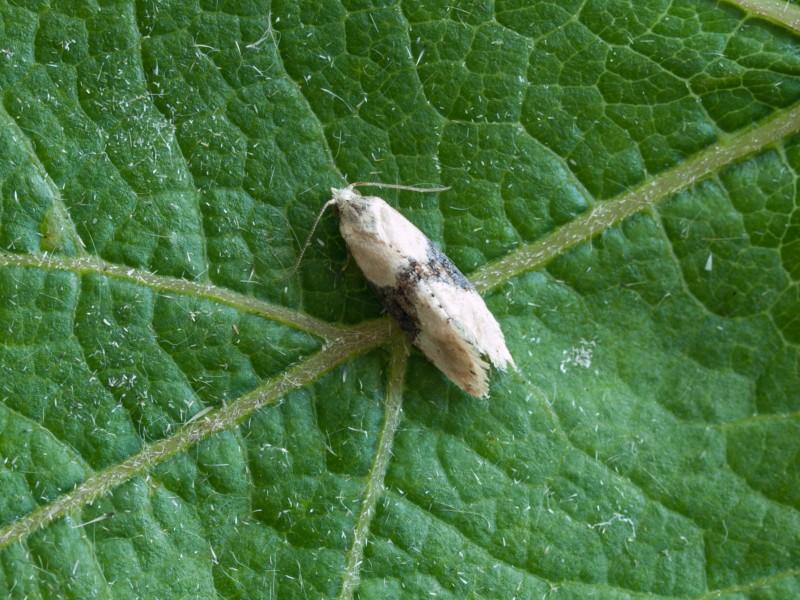Eupoecilia Ambiguella: (291, 180, 520, 402)
